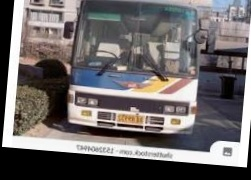bus: (57, 0, 209, 141)
